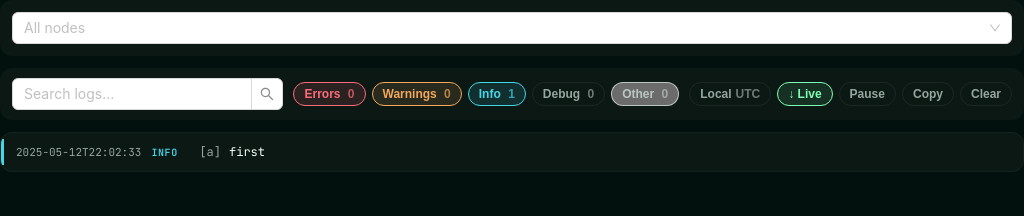
LogsPage /rosout source › holds lines back while paused and appends them on resume
Click the button "Pause" at (867, 94), box x1=839 y1=82 x2=896 y2=106
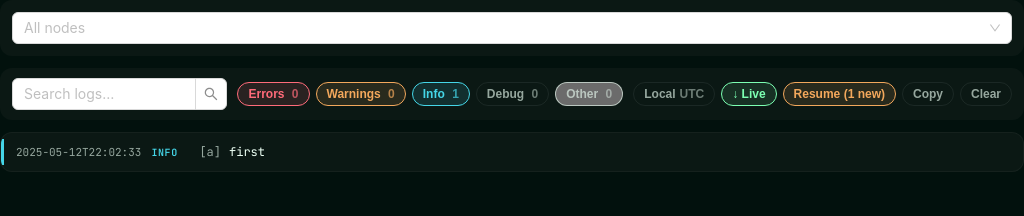
Expected: the text "second" is not shown
Click the button "Resume (1 new)" at (839, 94), box x1=783 y1=82 x2=896 y2=106
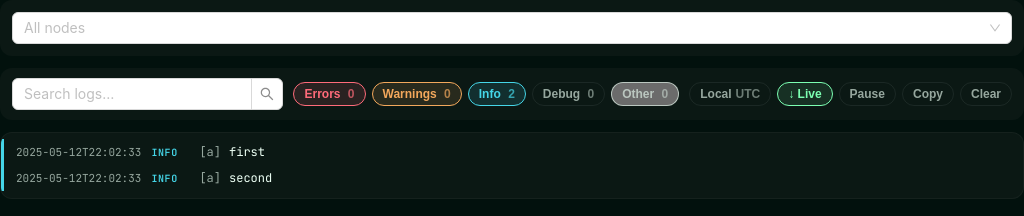
Expected: the text "second" is shown, x1=229 y1=170 x2=272 y2=186
